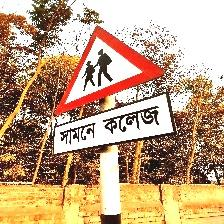College-in-front: (35, 30, 187, 168)
